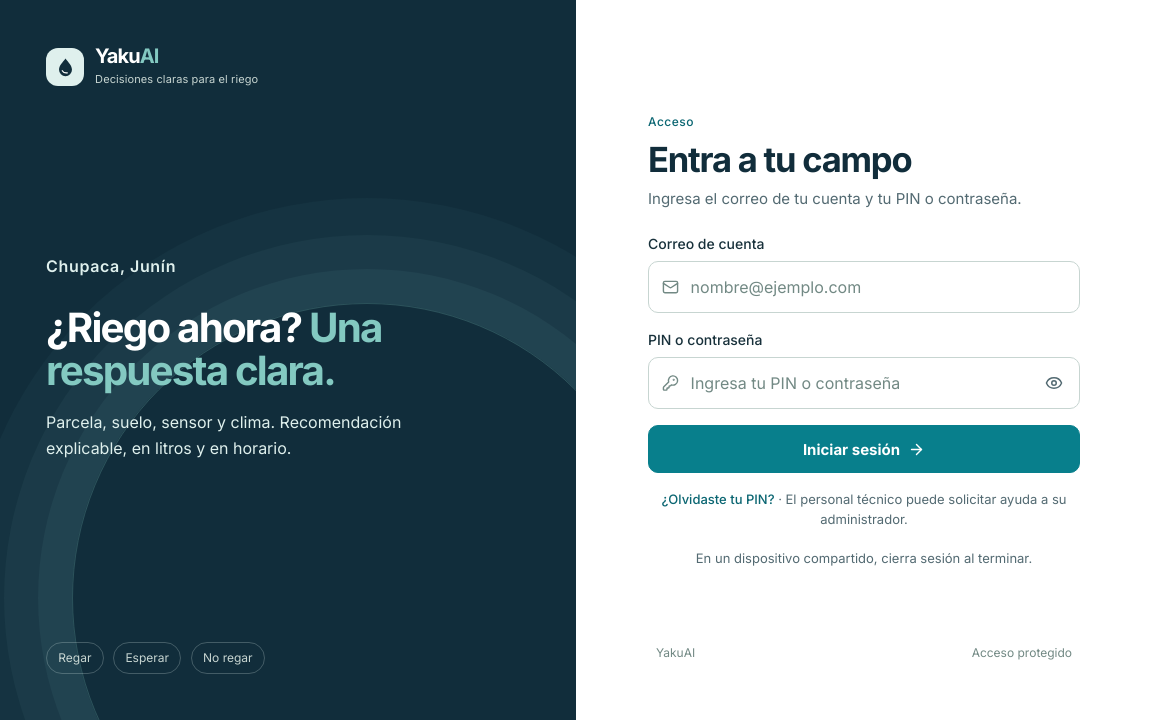
Test case: Ingreso › pide el correo cuando está vacío
Click the button "Iniciar sesión": [864, 449] box [648,425,1080,473]
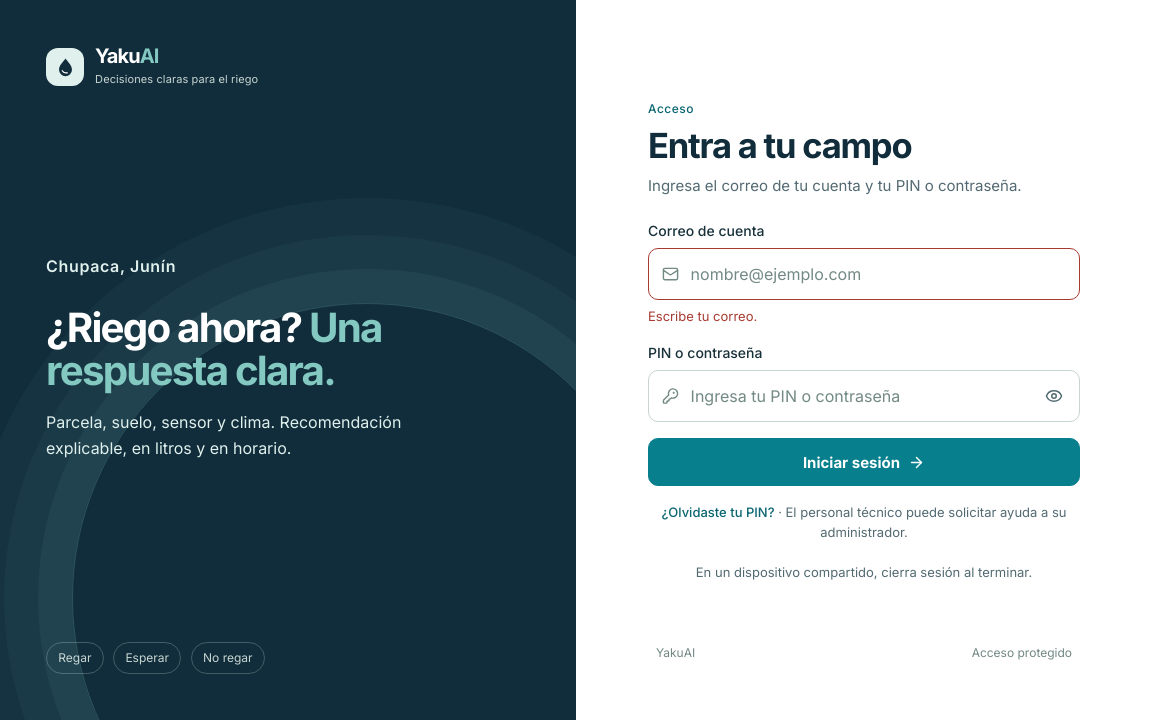
Expected: the text "Escribe tu correo." is shown, [648,308,757,324]
